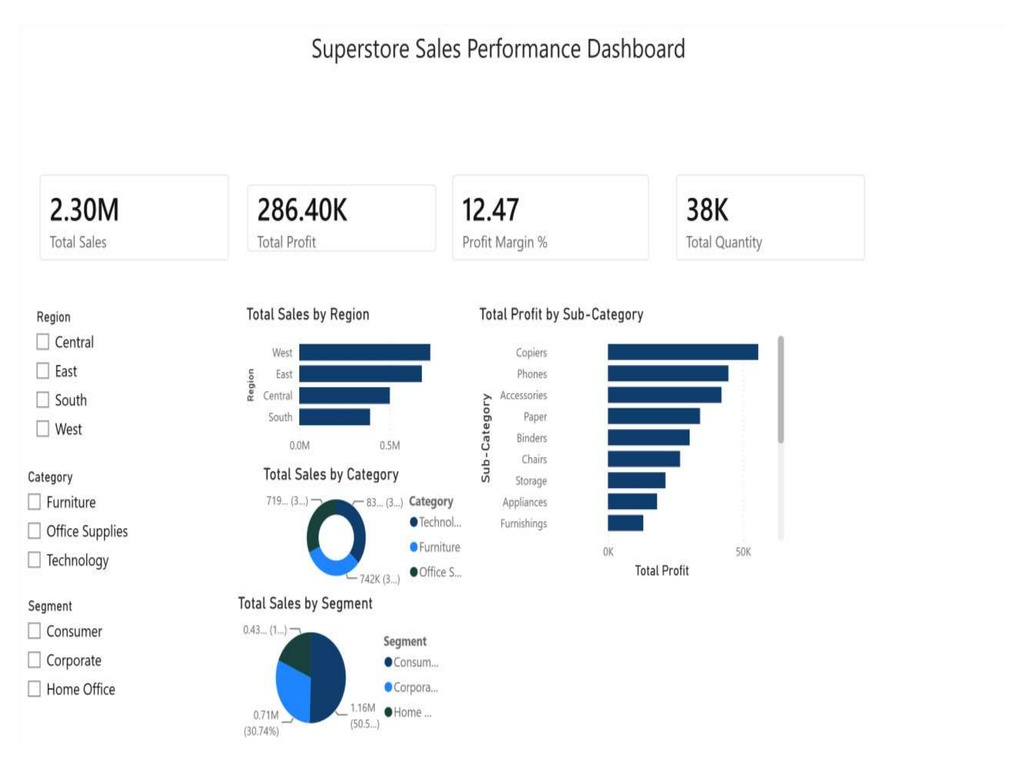

This screenshot's page, from the dashboard's own definition file:
{"tool":"powerbi","page":{"name":"Page 1","canvas":[1280,720],"ordinal":0},"visuals":[{"type":"cardVisual","fields":{"Data":["SampleSuperstore.Total Sales"]},"box":[11,134.5,279.9,120.8],"z":0},{"type":"cardVisual","fields":{"Data":["SampleSuperstore.Total Profit"]},"box":[279.9,144.1,279.9,101.5],"z":1000},{"type":"cardVisual","fields":{"Data":["SampleSuperstore.Profit Margin %"]},"box":[546.1,134.5,289.5,120.8],"z":2000},{"type":"cardVisual","fields":{"Data":["SampleSuperstore.Total Quantity"]},"box":[835.7,134.5,279.9,120.8],"z":3000},{"type":"clusteredBarChart","fields":{"Category":["SampleSuperstore.Region"],"Y":["SampleSuperstore.Total Sales"]},"box":[290.9,279.9,279.9,160.5],"z":4000},{"type":"donutChart","fields":{"Category":["SampleSuperstore.Category"],"Y":["SampleSuperstore.Total Sales"]},"box":[312.9,440.5,279.9,129],"z":5000},{"type":"clusteredBarChart","fields":{"Category":["SampleSuperstore.Sub-Category"],"Y":["SampleSuperstore.Total Profit"]},"box":[592.8,279.9,404.8,279.9],"z":6000},{"type":"pieChart","fields":{"Category":["SampleSuperstore.Segment"],"Y":["SampleSuperstore.Total Sales"]},"box":[279.9,569.5,279.9,150.9],"z":7000},{"type":"slicer","fields":{"Values":["SampleSuperstore.Region"]},"box":[11,279.9,279.9,150.9],"z":8000},{"type":"slicer","fields":{"Values":["SampleSuperstore.Category"]},"box":[0,440.5,279.9,150.9],"z":9000},{"type":"slicer","fields":{"Values":["SampleSuperstore.Segment"]},"box":[0,569.5,279.9,150.9],"z":10000},{"type":"textbox","box":[258,0,730,85.1],"z":11000}]}

Visuals, with their boxes on the page's 1280x720 design canvas (x1, y1, x2, y2). These are canvas units, not pixel positions in the 1024x768 screenshot, which may show the page scaled, cropped or inside an application window:
cardVisual - SampleSuperstore.Total Sales: [x1=11, y1=134, x2=291, y2=255]
cardVisual - SampleSuperstore.Total Profit: [x1=280, y1=144, x2=560, y2=246]
cardVisual - SampleSuperstore.Profit Margin %: [x1=546, y1=134, x2=836, y2=255]
cardVisual - SampleSuperstore.Total Quantity: [x1=836, y1=134, x2=1116, y2=255]
clusteredBarChart - SampleSuperstore.Region x SampleSuperstore.Total Sales: [x1=291, y1=280, x2=571, y2=440]
donutChart - SampleSuperstore.Category x SampleSuperstore.Total Sales: [x1=313, y1=440, x2=593, y2=570]
clusteredBarChart - SampleSuperstore.Sub-Category x SampleSuperstore.Total Profit: [x1=593, y1=280, x2=998, y2=560]
pieChart - SampleSuperstore.Segment x SampleSuperstore.Total Sales: [x1=280, y1=570, x2=560, y2=720]
slicer - SampleSuperstore.Region: [x1=11, y1=280, x2=291, y2=431]
slicer - SampleSuperstore.Category: [x1=0, y1=440, x2=280, y2=591]
slicer - SampleSuperstore.Segment: [x1=0, y1=570, x2=280, y2=720]
textbox: [x1=258, y1=0, x2=988, y2=85]
